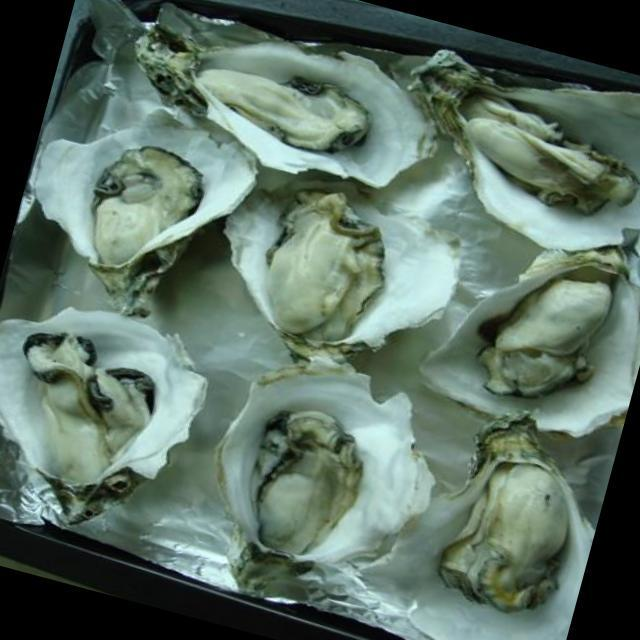Oyster-Open: (176, 329, 465, 640), (338, 376, 621, 640), (106, 0, 449, 205), (191, 150, 475, 395), (0, 84, 272, 339), (373, 22, 640, 279), (0, 274, 220, 550), (404, 204, 640, 450)
